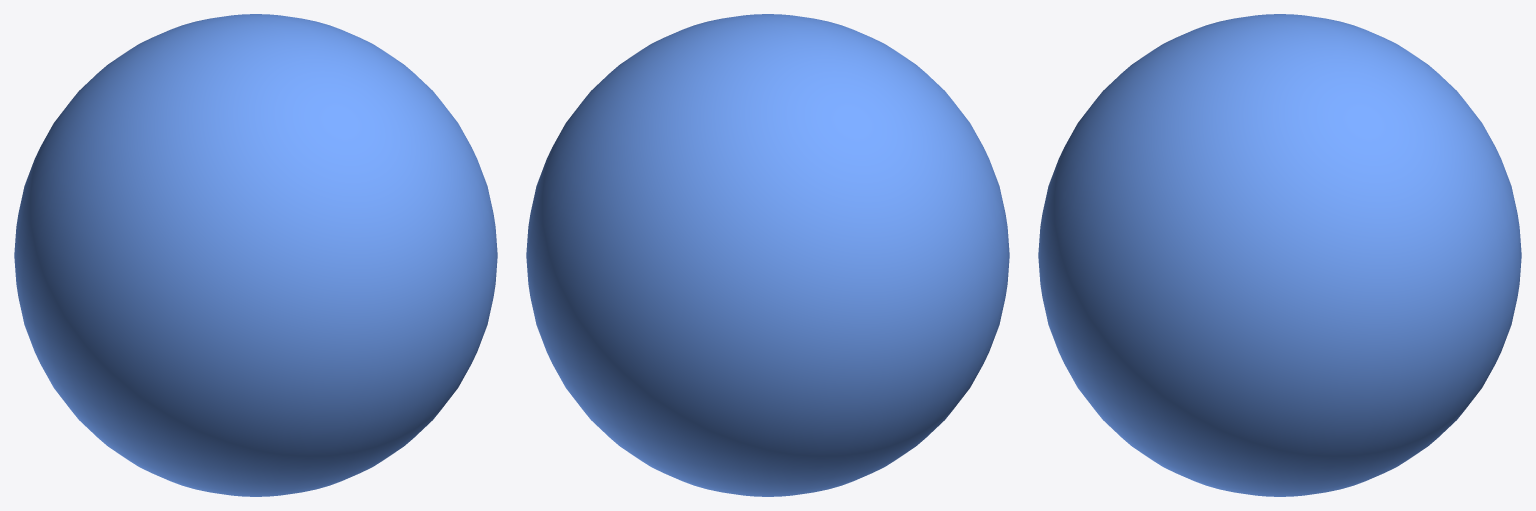
Rendered from animica-orb.glb.
The picture shows the model from 3 angles, left to right: view 1: azimuth 30°, elevation 25°; view 2: azimuth 150°, elevation 25°; view 3: azimuth 270°, elevation 25°; orthographic projection.
Visible parts, largest first — view 1: Orb; view 2: Orb; view 3: Orb.
Part boxes in pixels (x1,y1,x2,y2): Orb: (14, 14, 497, 496); Orb: (526, 14, 1009, 496); Orb: (1038, 14, 1521, 496).
Bounding box in the file's own units: 0.5 × 0.5 × 0.5.
